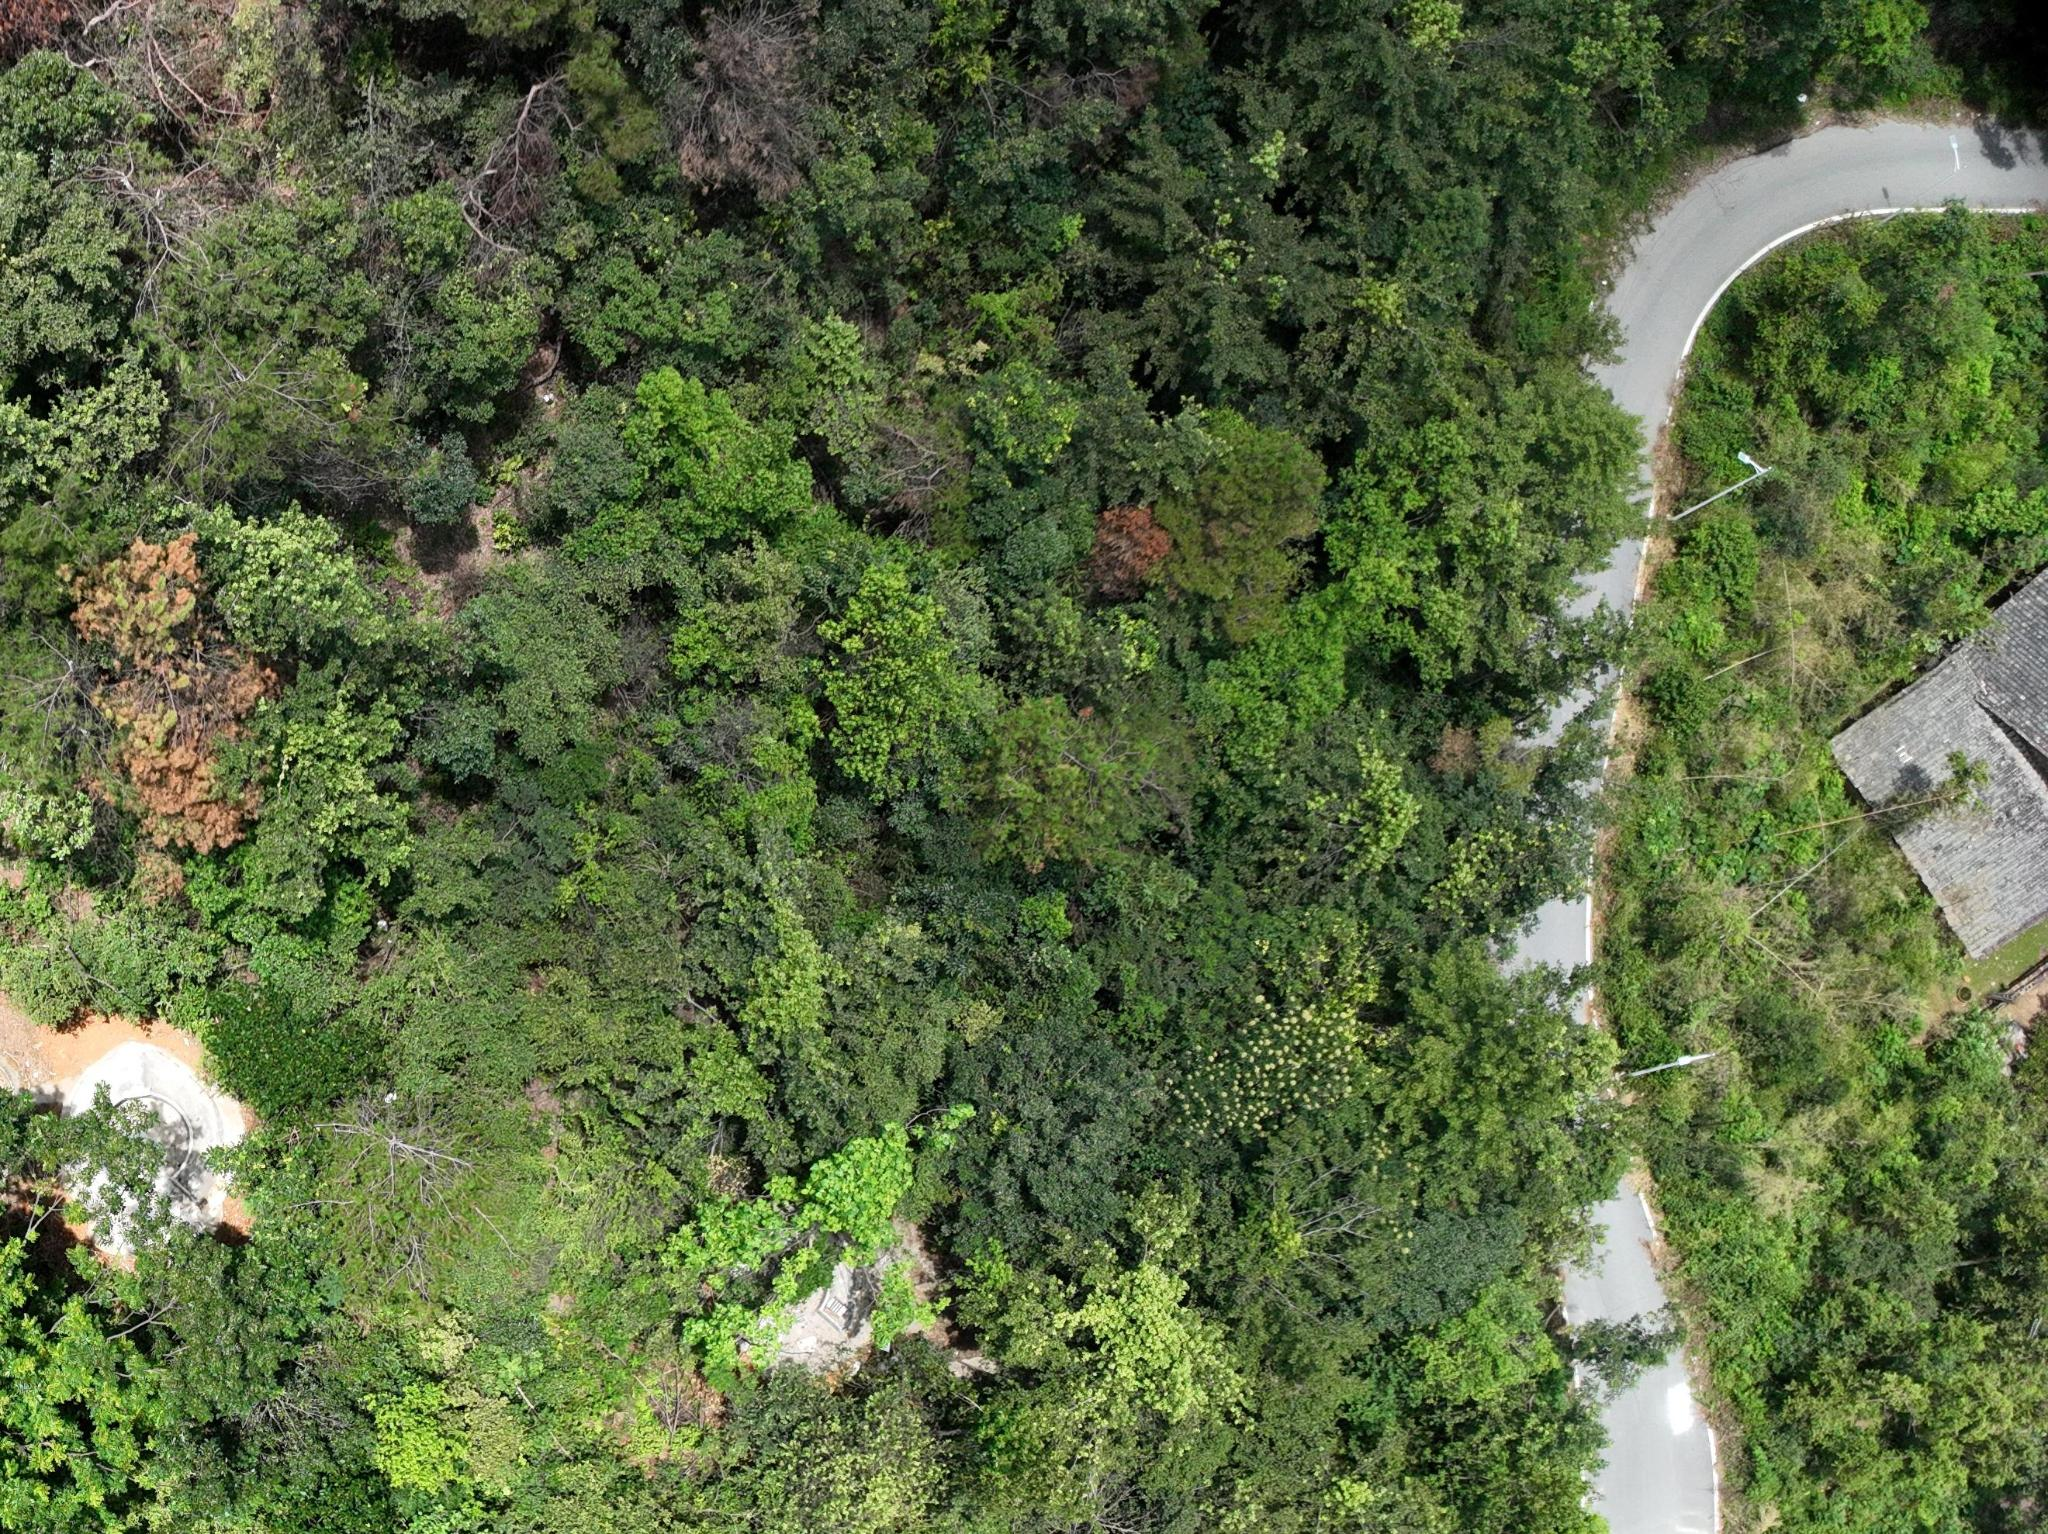heavy: (55, 525, 267, 893), (677, 8, 817, 197), (482, 77, 566, 230), (1089, 503, 1171, 591)
